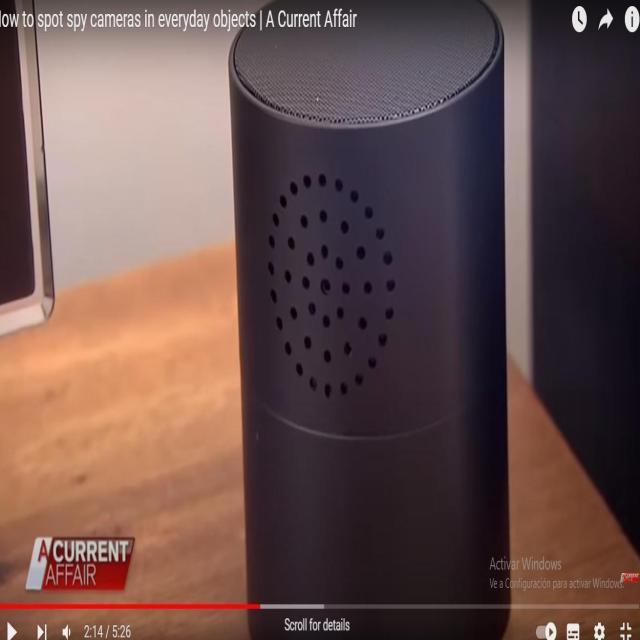hidden camera: (314, 257, 337, 308)
